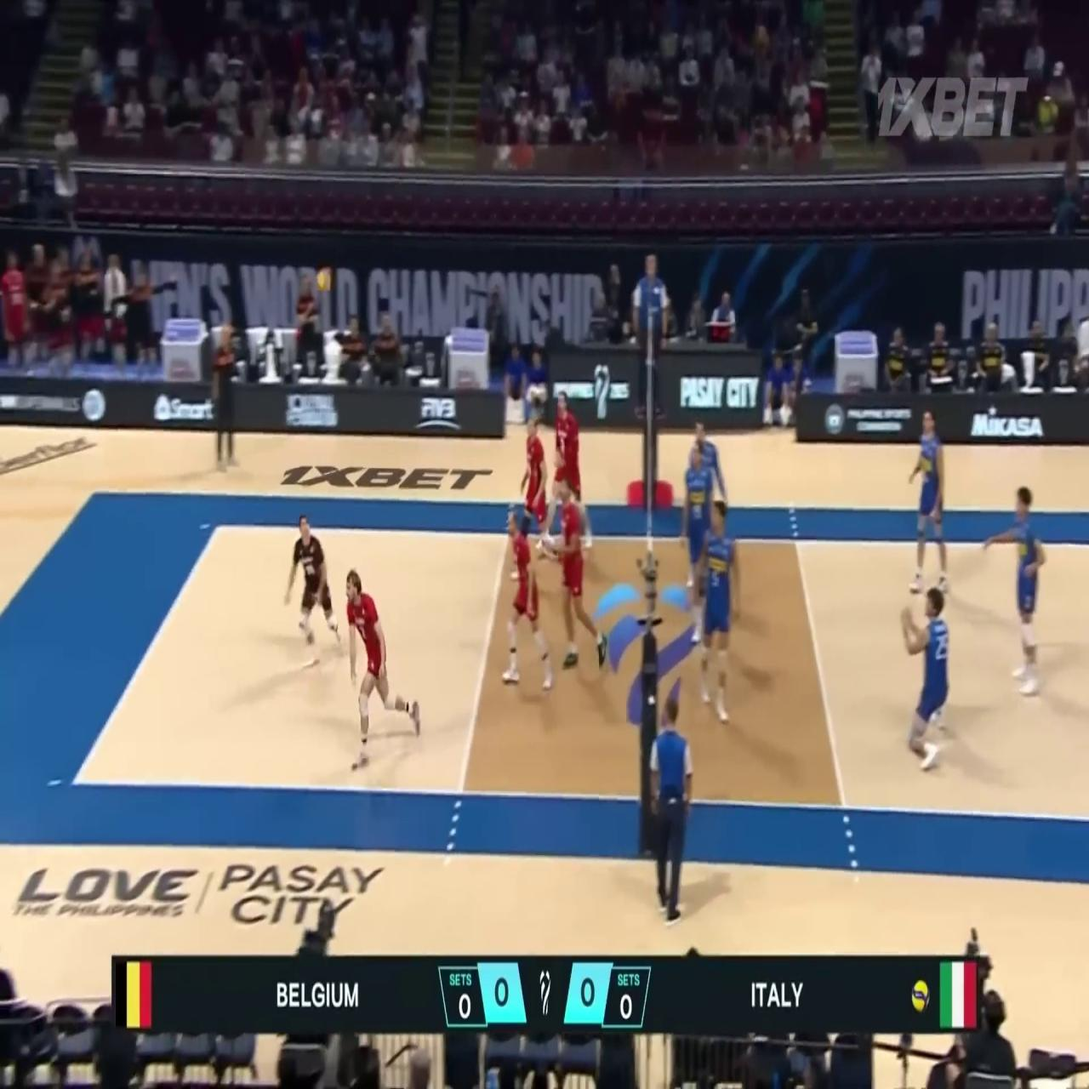ball: (316, 268, 332, 292)
